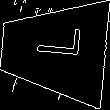L_W: (26, 33, 81, 68)
